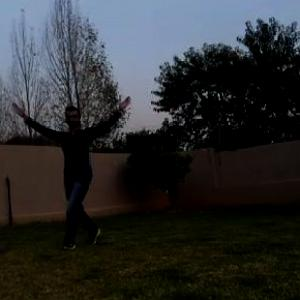takeoff: (12, 91, 138, 251)
